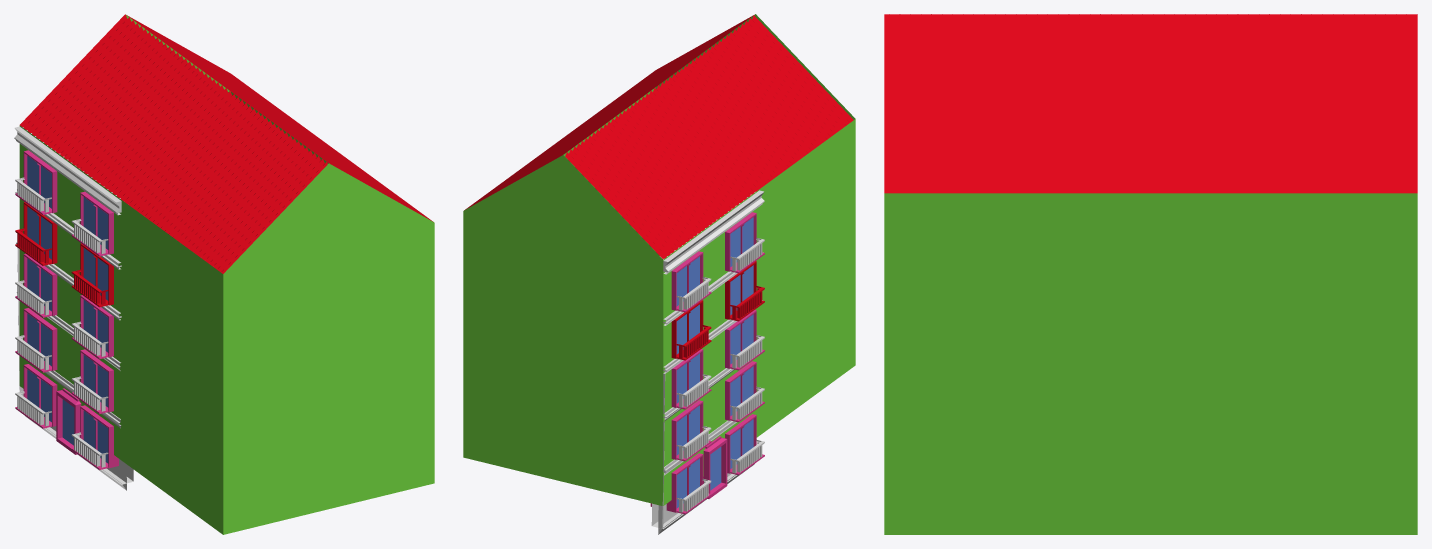
File: Building_8.fbx
3 renders of one model, left to right at view 1: azimuth 30°, elevation 25°; view 2: azimuth 150°, elevation 25°; view 3: azimuth 270°, elevation 25°, orthographic. The views are drawn at different scales.
Parts seen in each view (by area): view 1: Cube.002; view 2: Cube.002; view 3: Cube.002.
Part boxes in pixels (box(x1,y1,x2,y2)): Cube.002: box(14, 14, 434, 534); Cube.002: box(463, 14, 855, 534); Cube.002: box(884, 14, 1417, 534).
Size of the model in its own units: 1578 by 2530 by 2470.
